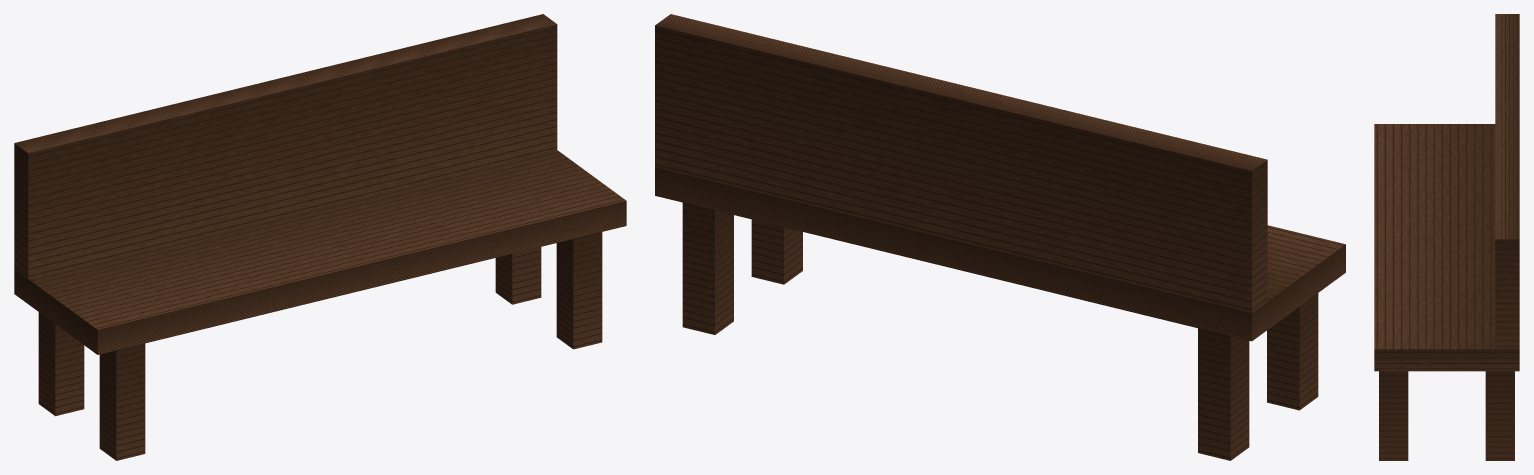
The model's file is bench_wooden.gltf.
The picture shows the model from 3 angles, left to right: view 1: azimuth 30°, elevation 25°; view 2: azimuth 150°, elevation 25°; view 3: azimuth 270°, elevation 25°; orthographic projection. The views are drawn at different scales.
Visible parts, largest first — view 1: bench_wooden; view 2: bench_wooden; view 3: bench_wooden.
Boxes of the visible parts, left/top/right/bottom form: bench_wooden: left=14, top=14, right=626, bottom=460; bench_wooden: left=655, top=14, right=1345, bottom=460; bench_wooden: left=1374, top=14, right=1519, bottom=460.
Size of the model in its own units: 2.2 by 1.05 by 0.6.
1 material, 1 textured.
